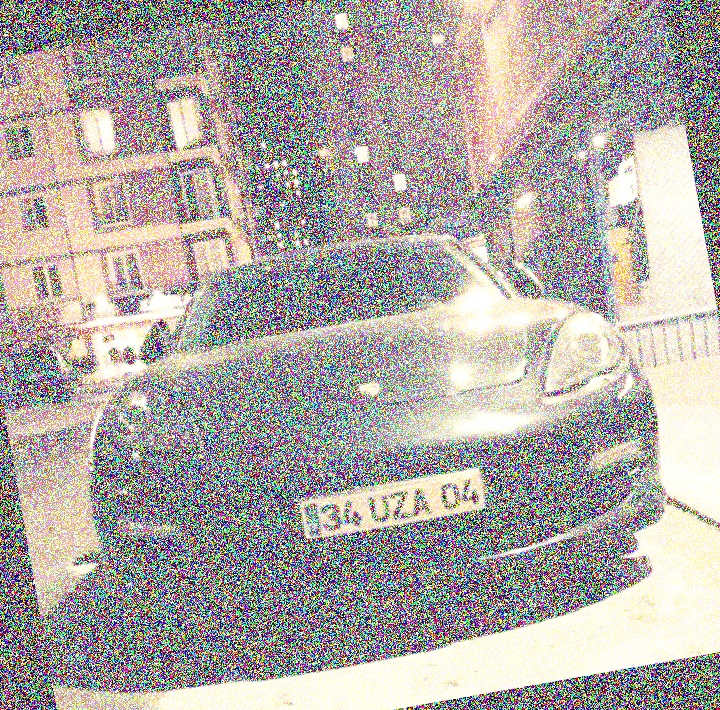plaka: (318, 475, 491, 535)
